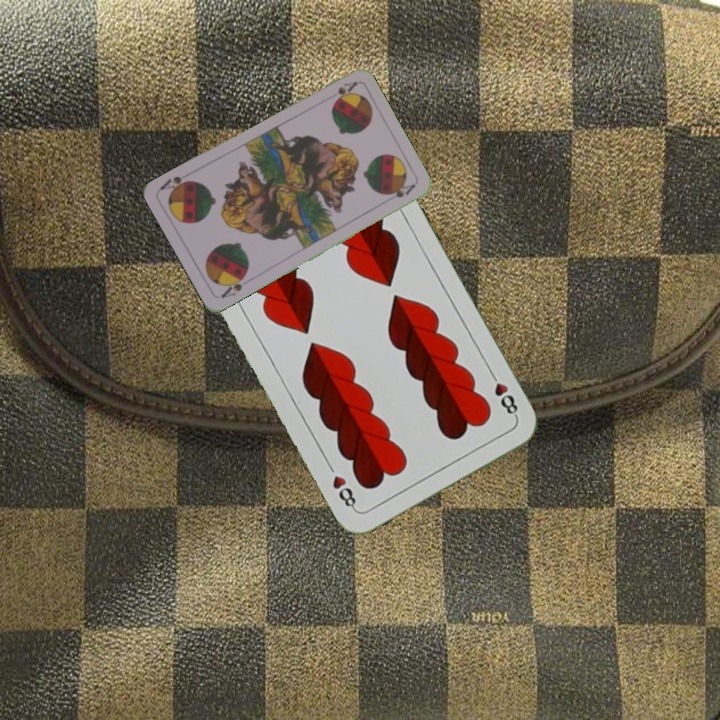H8: (485, 366, 521, 421)
SA: (217, 270, 253, 301), (331, 77, 359, 103)
